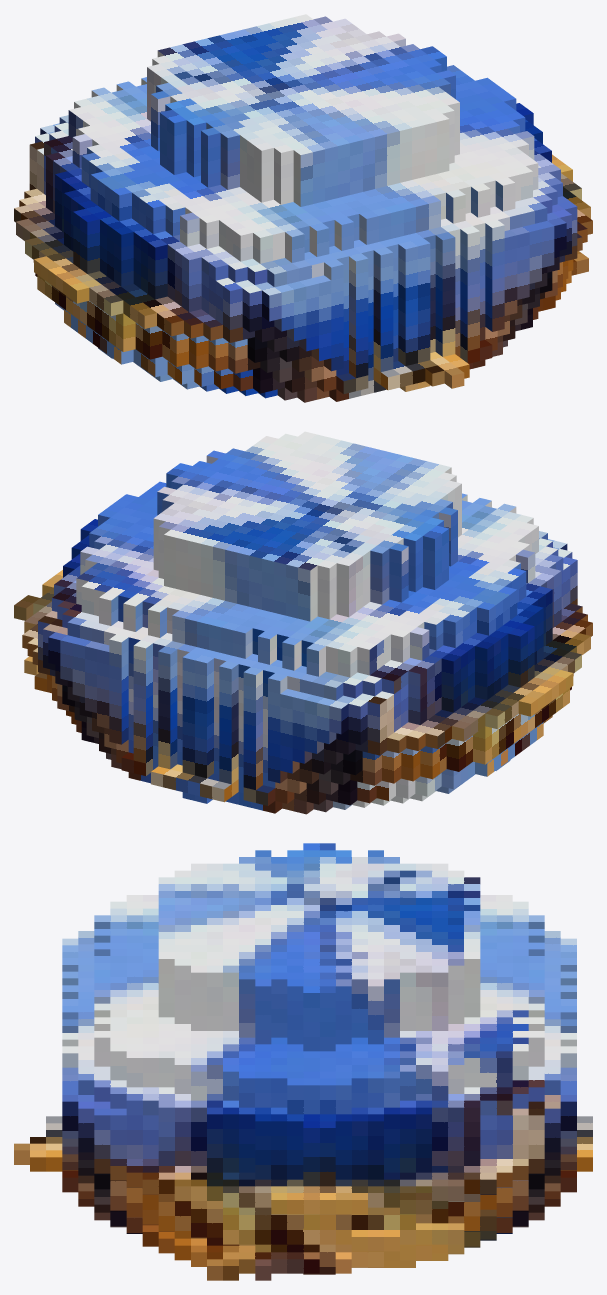
The model's file is blue-umbrella.glb.
3 renders of one model, top to bottom at view 1: azimuth 30°, elevation 25°; view 2: azimuth 150°, elevation 25°; view 3: azimuth 270°, elevation 25°, orthographic. The views are drawn at different scales.
Visible parts, largest first — view 1: blue-umbrella; view 2: blue-umbrella; view 3: blue-umbrella.
Boxes of the visible parts, x1,y1,x2,y2 form: blue-umbrella: (14, 14, 592, 402); blue-umbrella: (14, 431, 592, 814); blue-umbrella: (14, 843, 592, 1280).
Size of the model in its own units: 1.33 by 0.5667 by 1.2.
1 material, 1 textured.
